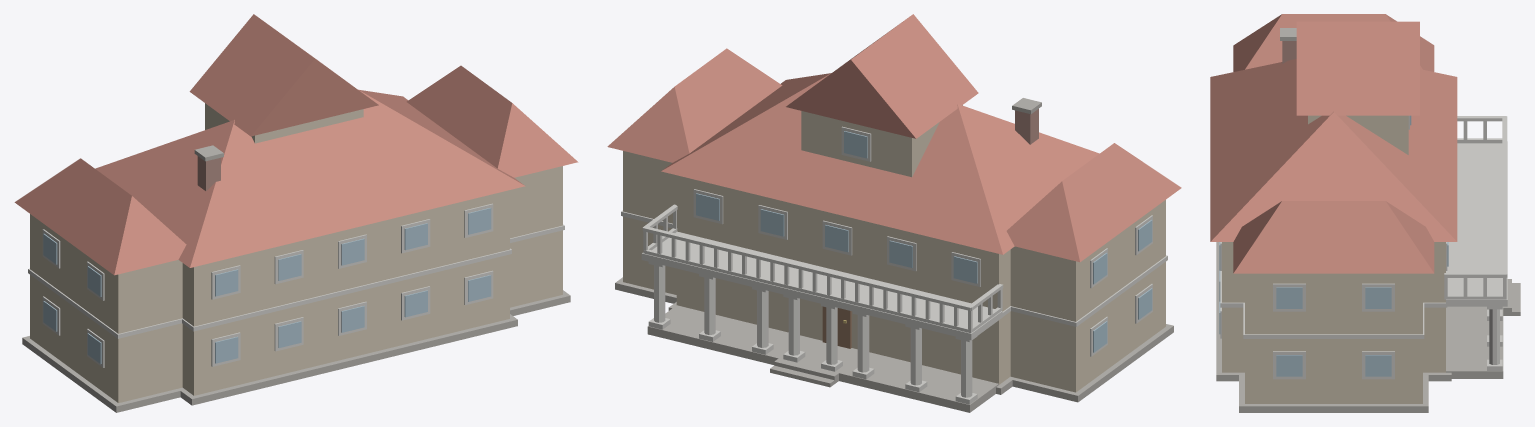
File: casa-n07-4748526c.glb
3 renders of one model, left to right at view 1: azimuth 30°, elevation 25°; view 2: azimuth 150°, elevation 25°; view 3: azimuth 270°, elevation 25°, orthographic.
Size of the model in its own units: 18.8 by 10.75 by 10.8.
